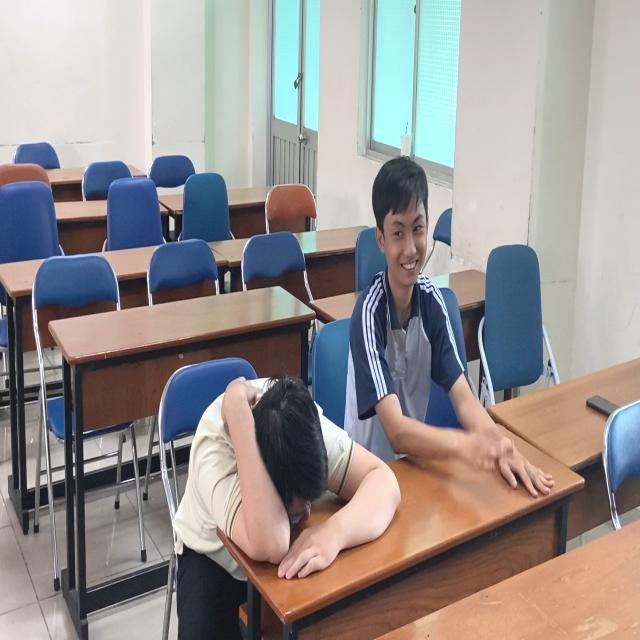sleep: (179, 364, 404, 585)
